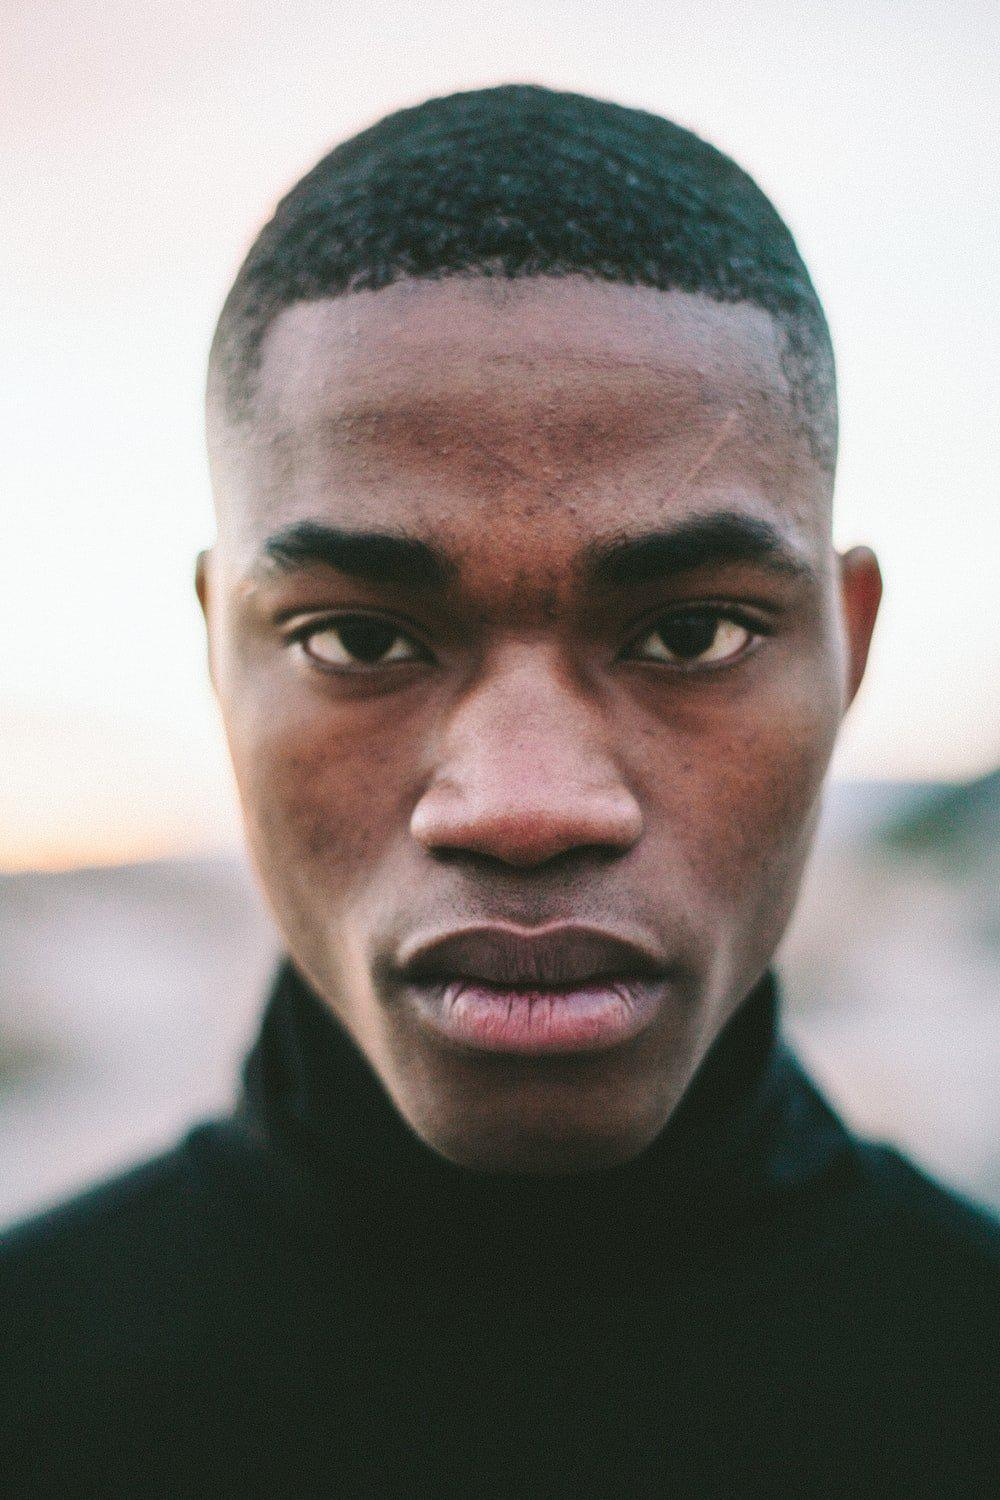Sober: (251, 267, 824, 1123)
